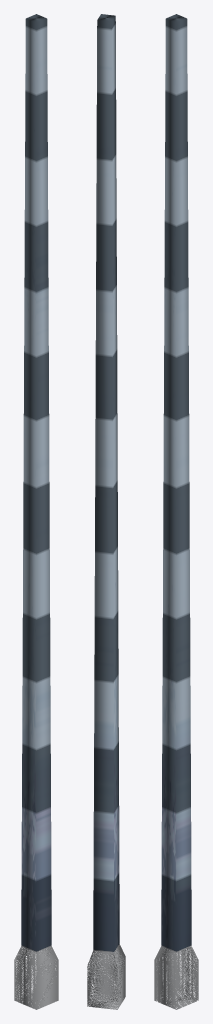
The model's file is RailCrossing_Gate.fbx.
The picture shows the model from 3 angles, left to right: view 1: azimuth 90°, elevation 25°; view 2: azimuth 210°, elevation 25°; view 3: azimuth 270°, elevation 25°; orthographic projection.
Visible parts, largest first — view 1: Pole.001; view 2: Pole.001; view 3: Pole.001.
Part boxes in pixels (<box>): Pole.001: <box>14,14,58,1009</box>; Pole.001: <box>87,14,125,1009</box>; Pole.001: <box>154,14,198,1009</box>.
Bounding box in the file's own units: 37.98 × 931 × 37.98.
